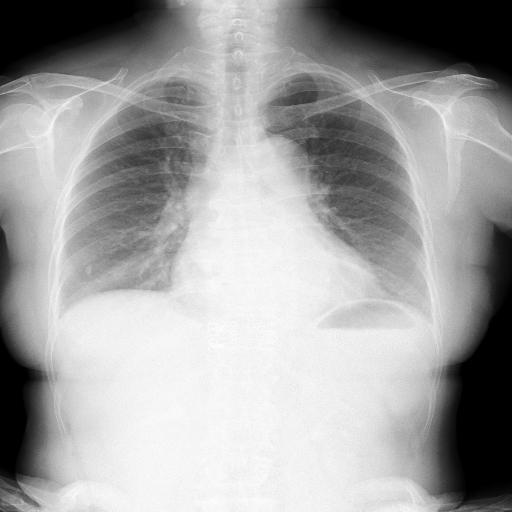Aortic enlargement: (215, 107, 279, 165)
Cardiomegaly: (60, 227, 275, 280)
Nodule-Mass: (82, 258, 90, 270)
Other lesion: (82, 260, 90, 272)
Pleural thickening: (104, 66, 158, 86), (290, 60, 336, 82)
